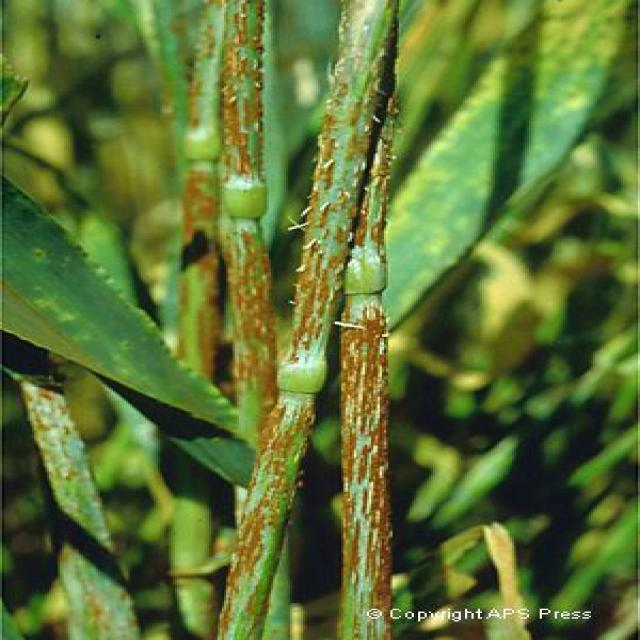Stem Rust: (180, 0, 405, 640)
